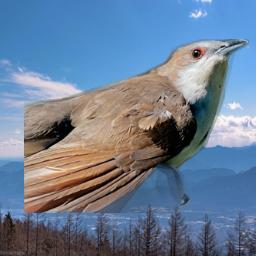Cuckoo: (24, 39, 249, 213)
